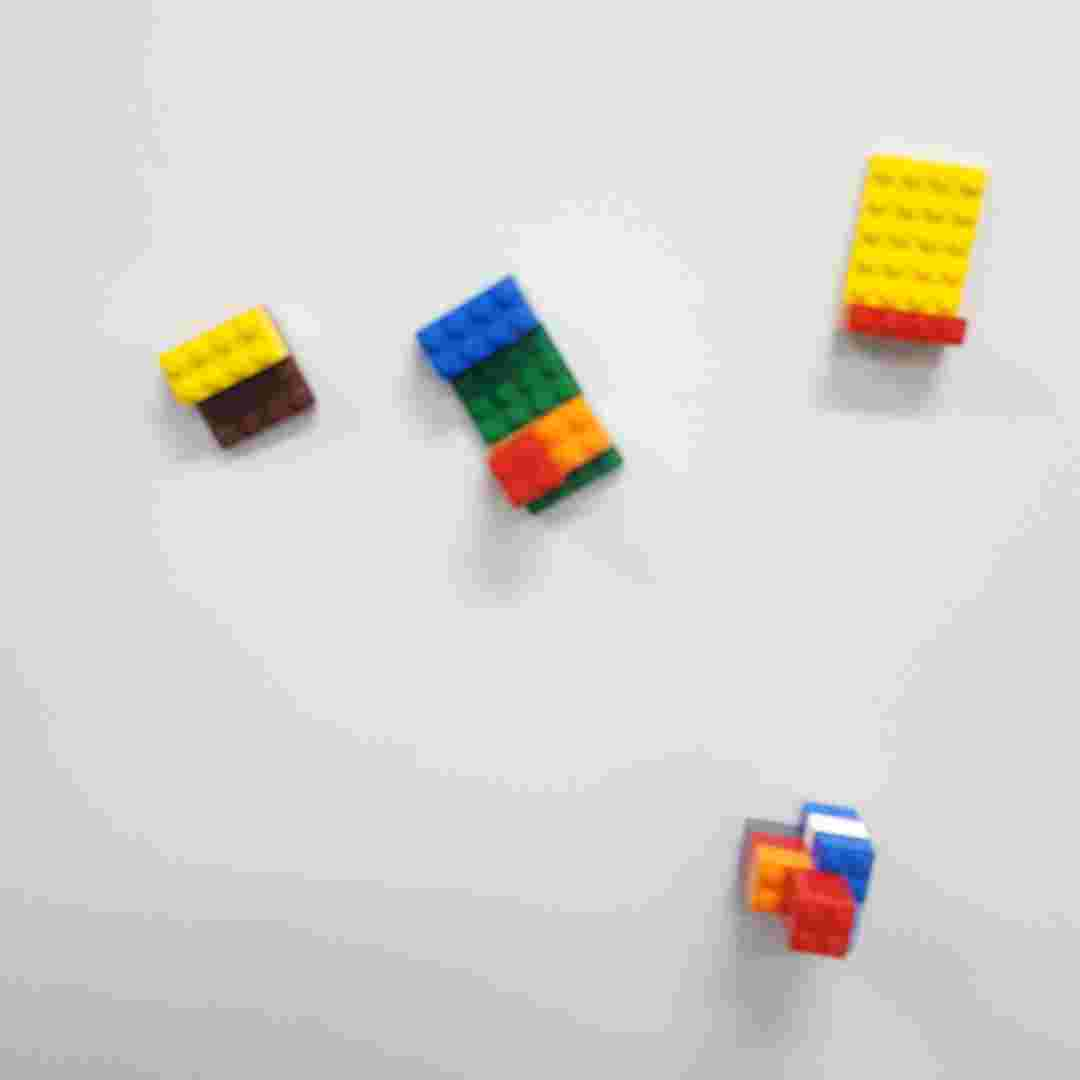LEGO: (415, 271, 627, 515), (836, 154, 991, 352), (154, 302, 320, 451), (737, 798, 878, 963)
